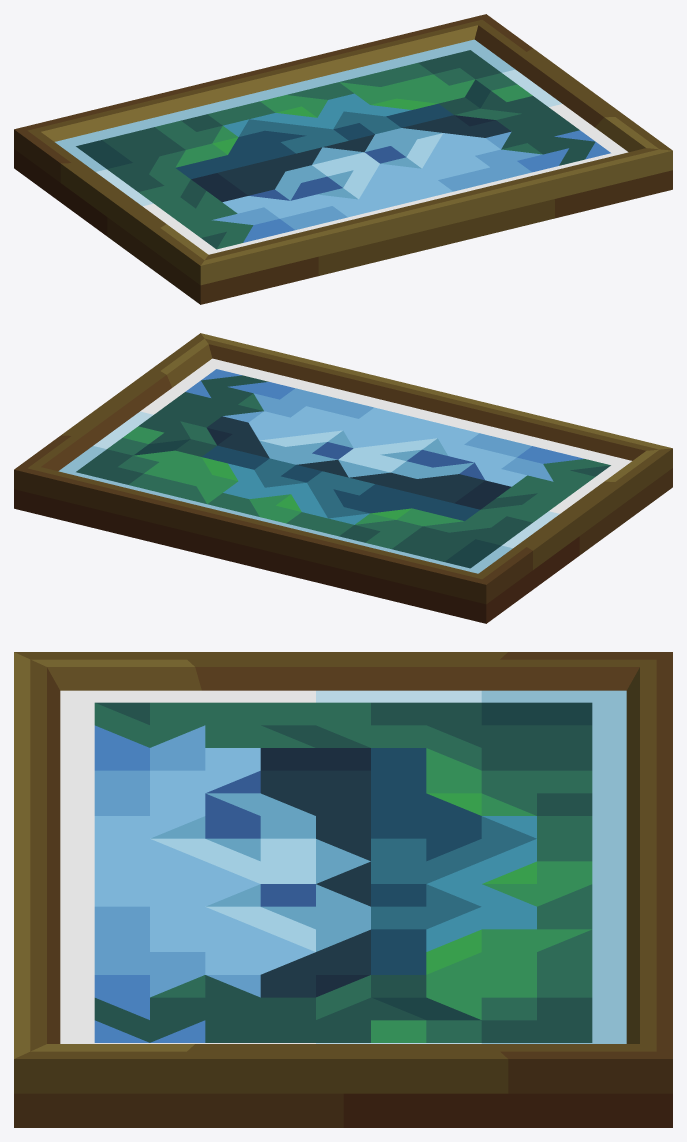
The model's file is painting1.fbx.
3 views of the same model, one above another, from view 1: azimuth 30°, elevation 25°; view 2: azimuth 150°, elevation 25°; view 3: azimuth 270°, elevation 25° (orthographic). The views are drawn at different scales.
Visible parts, largest first — view 1: plane, mesh; view 2: plane, mesh; view 3: plane, mesh.
Part boxes in pixels (x1=…): plane: x1=55, y1=39, x2=628, y2=254; mesh: x1=14, y1=14, x2=672, y2=304; plane: x1=58, y1=358, x2=631, y2=573; mesh: x1=14, y1=333, x2=672, y2=623; plane: x1=60, y1=690, x2=626, y2=1043; mesh: x1=14, y1=652, x2=672, y2=1127.
Size of the model in its own units: 238 by 18.75 by 162.
2 materials, 2 textured.
